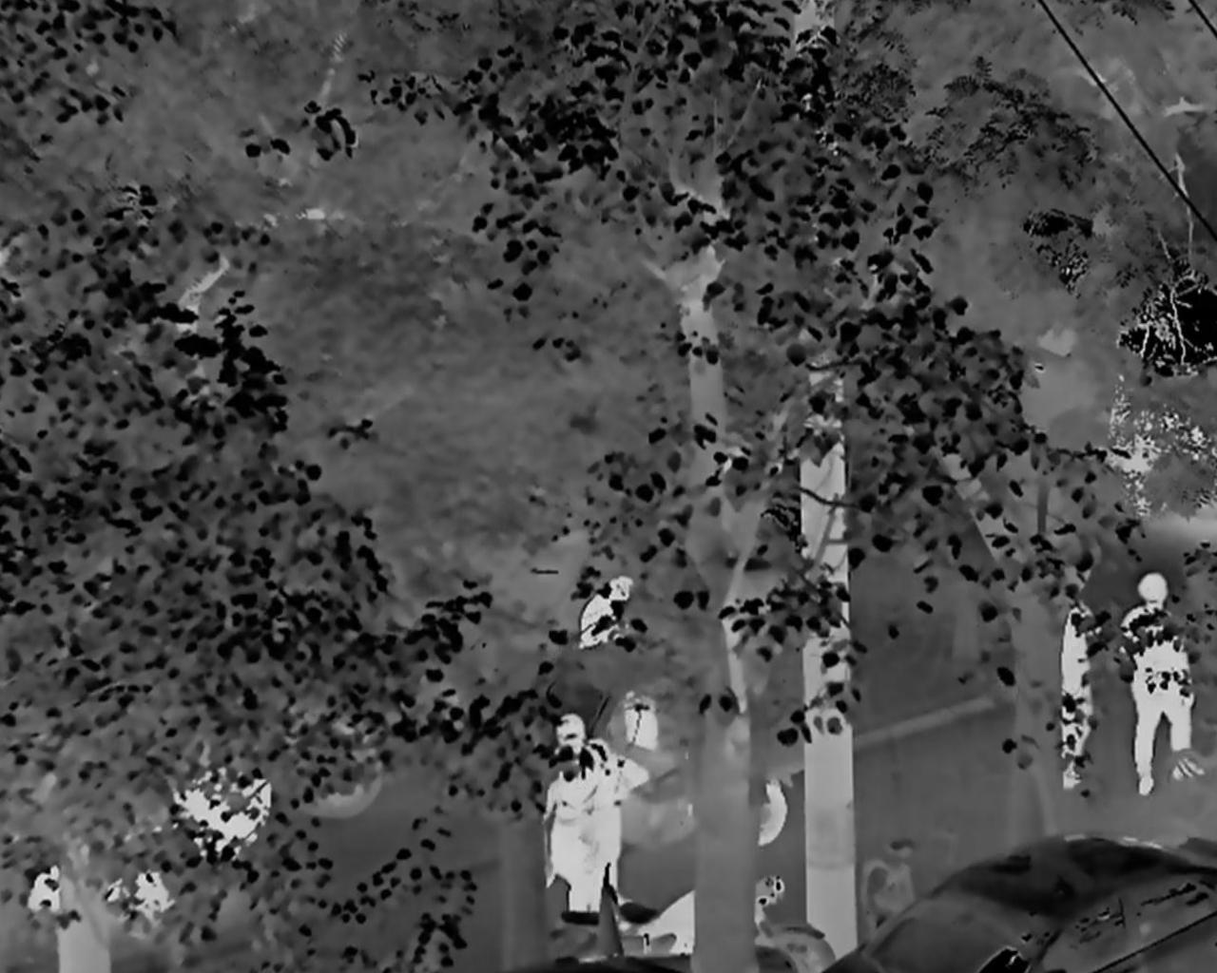person: (1119, 571, 1207, 794), (582, 740, 651, 916), (541, 709, 590, 895), (1060, 596, 1106, 790), (577, 573, 634, 647)
